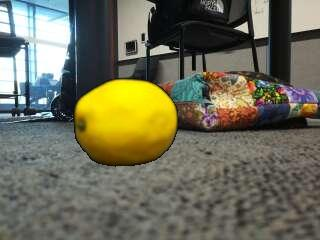lemon: (76, 79, 178, 164)
